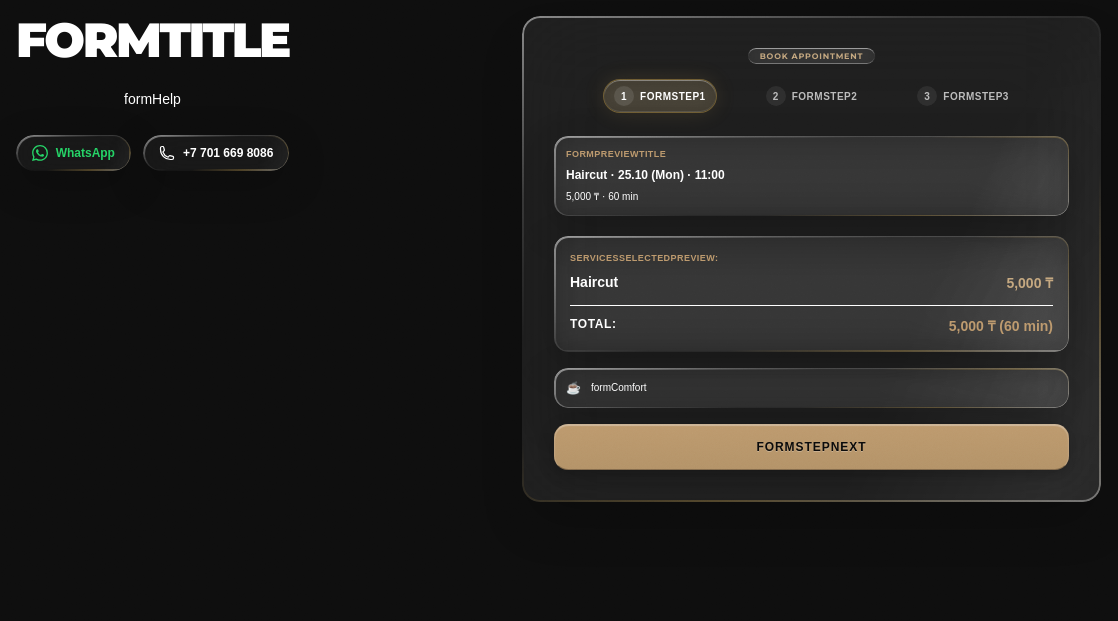
Scenario: BookingForm › renders contact inputs on step 3
The image size is (1118, 621).
Click the button "formStepNext": (812, 447) 554,424 -> 1069,470
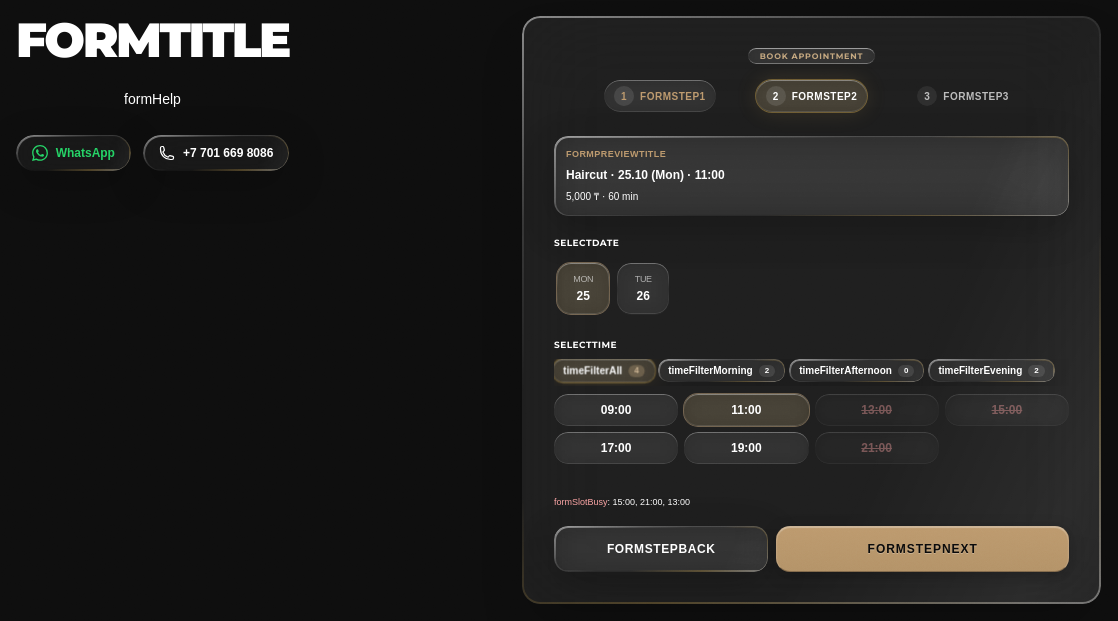
Click the button "formStepNext": (923, 549) 776,526 -> 1069,572
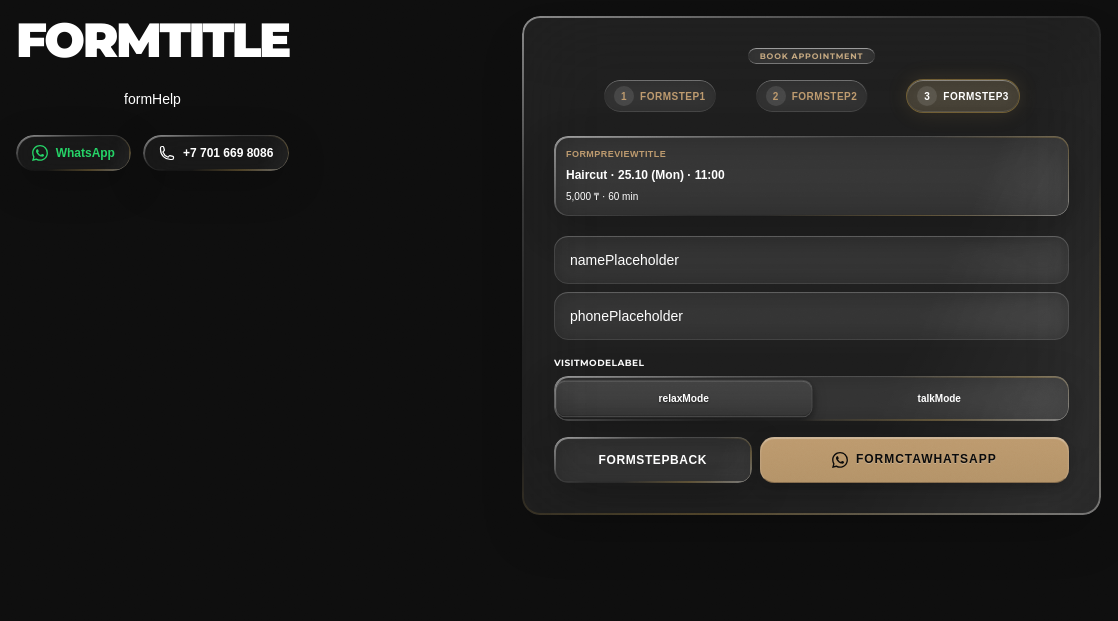
Check: the field with placeholder "namePlaceholder" is shown, box 554,236 -> 1069,284
Check: the field with placeholder "phonePlaceholder" is shown, box 554,292 -> 1069,340
